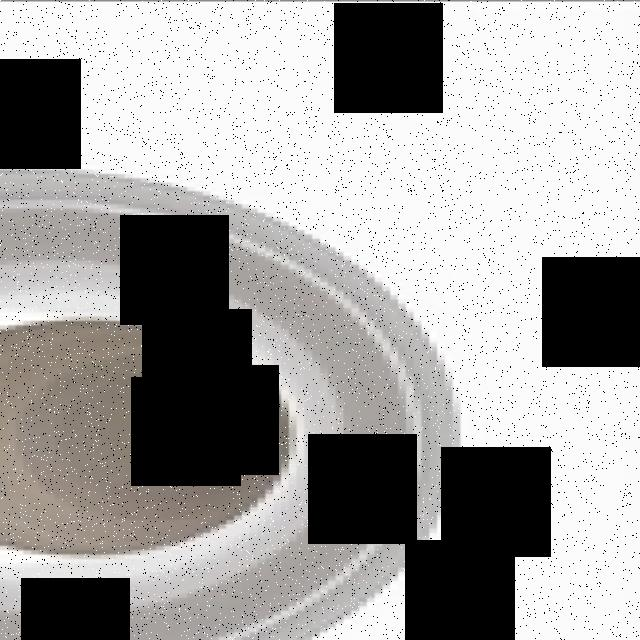Saturn: (0, 169, 469, 640)
